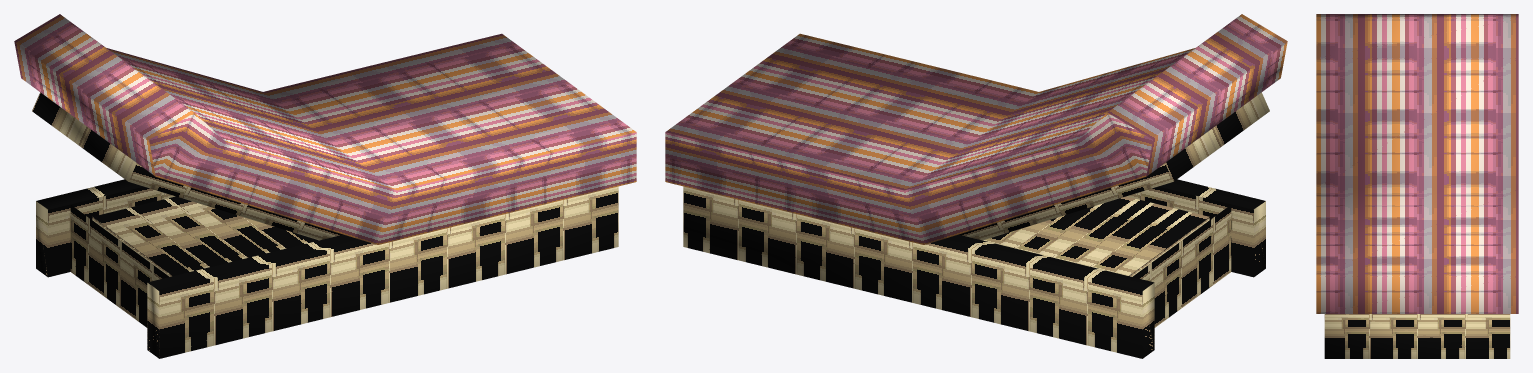
Rendered from 3127IMRL09_20.gltf.
3 renders of one model, left to right at view 1: azimuth 30°, elevation 25°; view 2: azimuth 150°, elevation 25°; view 3: azimuth 270°, elevation 25°, orthographic. The views are drawn at different scales.
Visible parts, largest first — view 1: 3127IMRL09_20; view 2: 3127IMRL09_20; view 3: 3127IMRL09_20.
Boxes of the visible parts, x1=… form: 3127IMRL09_20: x1=14, y1=14, x2=636, y2=358; 3127IMRL09_20: x1=665, y1=14, x2=1287, y2=358; 3127IMRL09_20: x1=1316, y1=14, x2=1518, y2=358.
Size of the model in its own units: 1.95 by 0.9246 by 0.9277.
2 materials, 2 textured.
